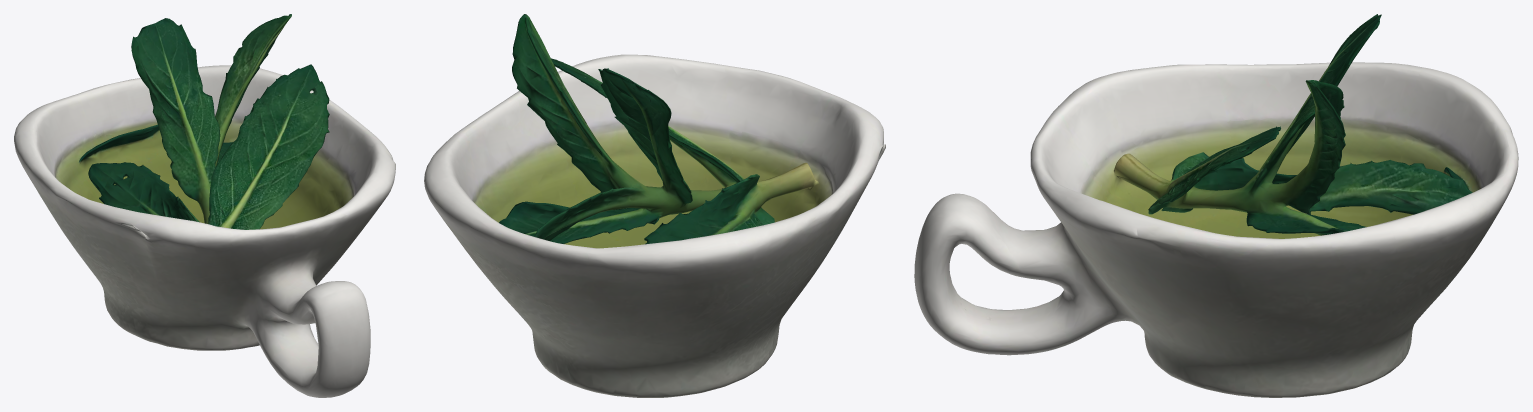
File: greentea.glb
The picture shows the model from 3 angles, left to right: view 1: azimuth 30°, elevation 25°; view 2: azimuth 150°, elevation 25°; view 3: azimuth 270°, elevation 25°; orthographic projection. The views are drawn at different scales.
Parts seen in each view (by area): view 1: tripo_node_31a0e998-63e8-4372-ab69-da714c00bf67; view 2: tripo_node_31a0e998-63e8-4372-ab69-da714c00bf67; view 3: tripo_node_31a0e998-63e8-4372-ab69-da714c00bf67.
Boxes of the visible parts, x1,y1,x2,y2 form: tripo_node_31a0e998-63e8-4372-ab69-da714c00bf67: (14,14,395,397); tripo_node_31a0e998-63e8-4372-ab69-da714c00bf67: (424,14,885,397); tripo_node_31a0e998-63e8-4372-ab69-da714c00bf67: (914,14,1518,397).
Size of the model in its own units: 0.7011 by 0.587 by 0.9793.
Materials: 1 (1 with a texture image).
